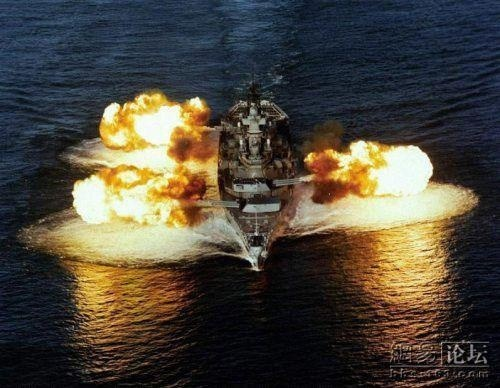fire: (70, 89, 213, 227), (304, 137, 437, 202)
